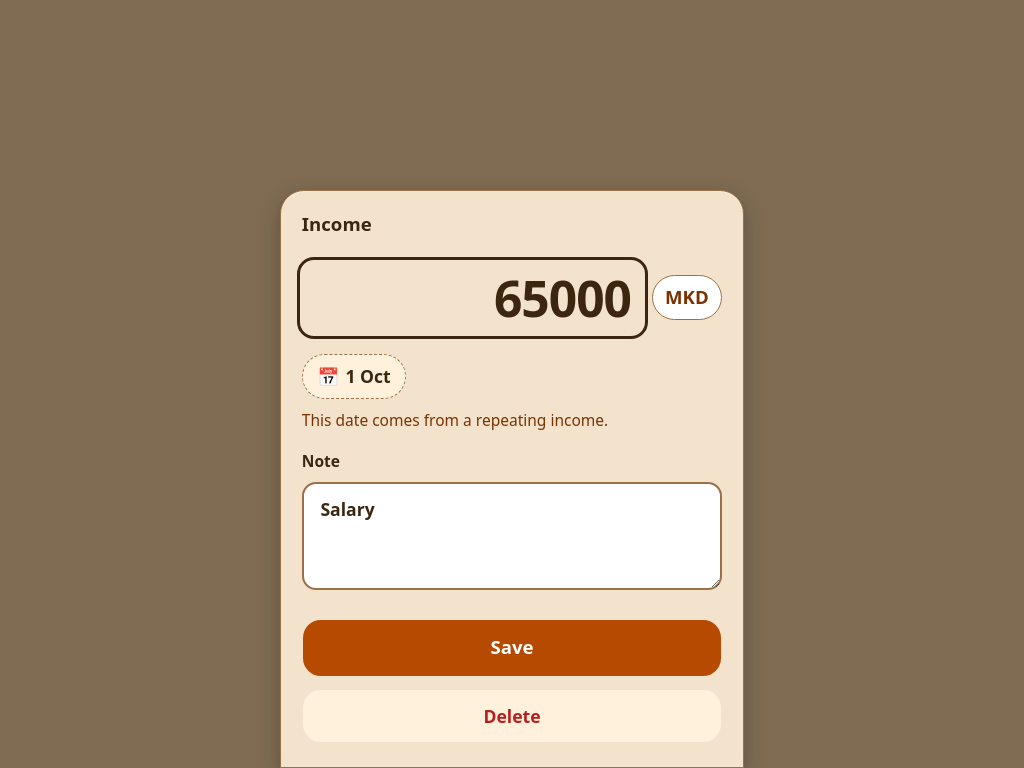
Test: PersonalIncomeSheet, editing an entry made by a repeating income › what still works › marks the date chip and shows the translated message when the server refuses a moved date (en)
This screenshot has width=1024, height=768.
Click the button "Save": (512, 648) [302,619,722,677]
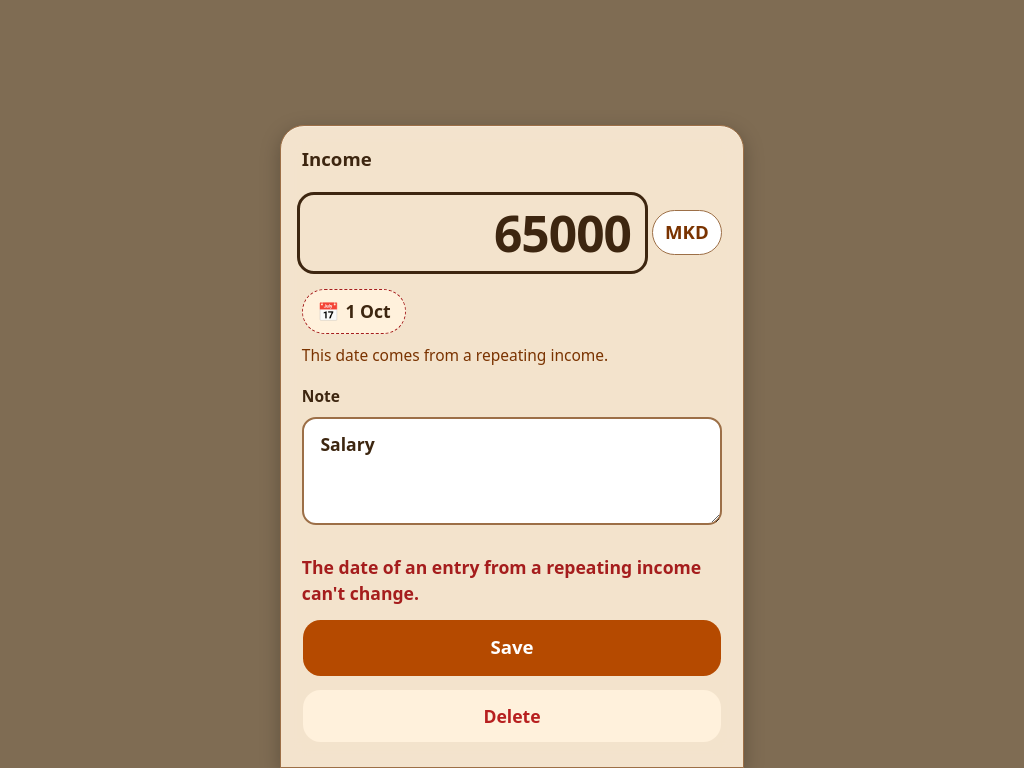
Result: the message reads "The date of an entry from a repeating income can't change." at [302,555,701,605]
